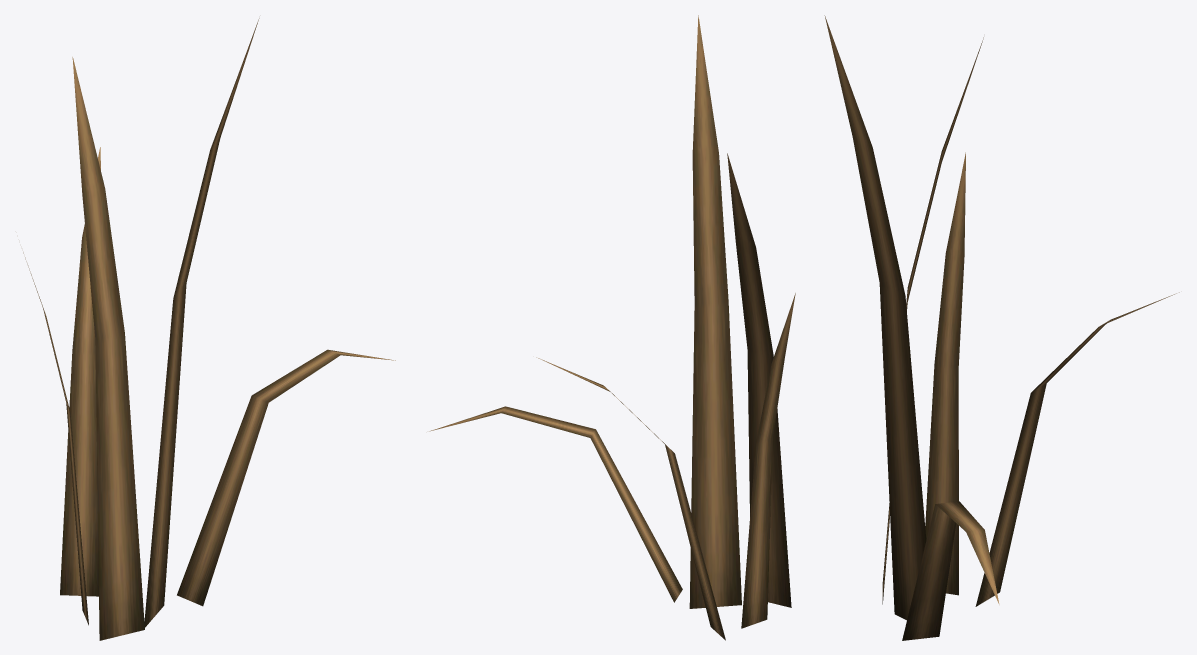
Rendered from INST_OH_NGRASS_TUFT_03.fbx.
3 renders of one model, left to right at view 1: azimuth 30°, elevation 25°; view 2: azimuth 150°, elevation 25°; view 3: azimuth 270°, elevation 25°, orthographic. The views are drawn at different scales.
Parts seen in each view (by area): view 1: INST_OH_NGRASS_TUFT_03; view 2: INST_OH_NGRASS_TUFT_03; view 3: INST_OH_NGRASS_TUFT_03.
Boxes of the visible parts, bbox=[...] form: INST_OH_NGRASS_TUFT_03: bbox=[23, 18, 395, 640]; INST_OH_NGRASS_TUFT_03: bbox=[429, 15, 795, 640]; INST_OH_NGRASS_TUFT_03: bbox=[824, 15, 1179, 640].
Bounding box in the file's own units: 2227 × 3299 × 1667.
1 material, 1 textured.
